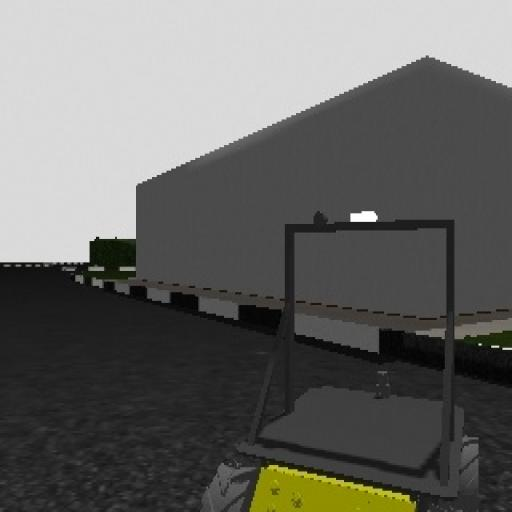huskya200: (182, 180, 490, 512)
